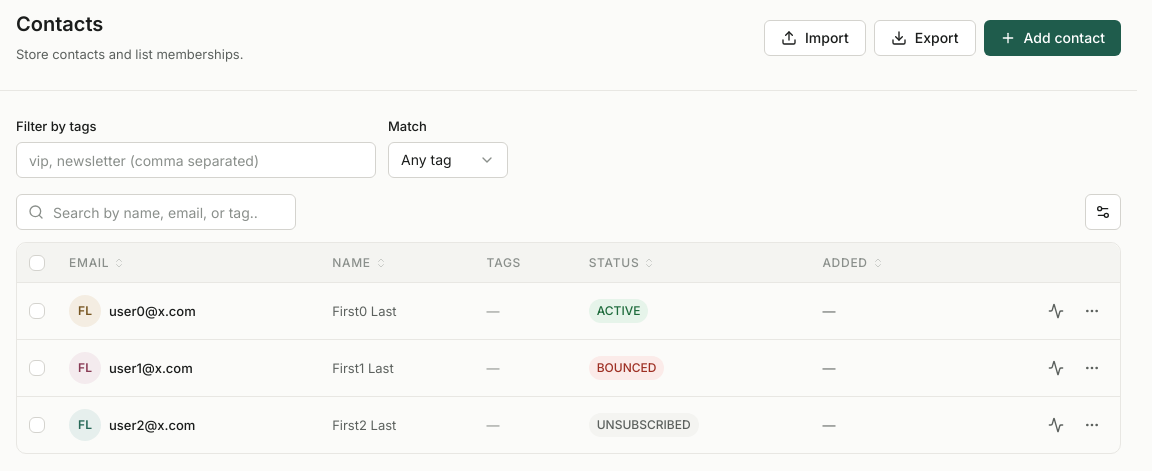
Test: Contacts › filters by search and shows no-matches state
The width and height of the screenshot is (1152, 471).
expect the text "user0@x.com" is shown: met, box [109,302,196,320]
Type "zzz" into the field with placeholder "Search by name, email, or tag…". click: (156, 212)
box: [16,194,296,230]
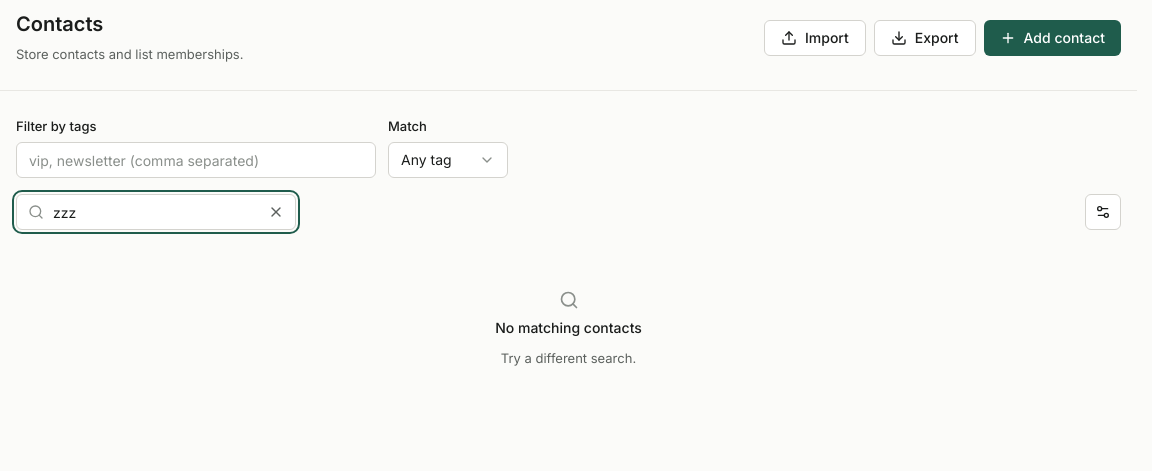
expect the text "No matching contacts" is shown: met, box [495,318,642,338]
